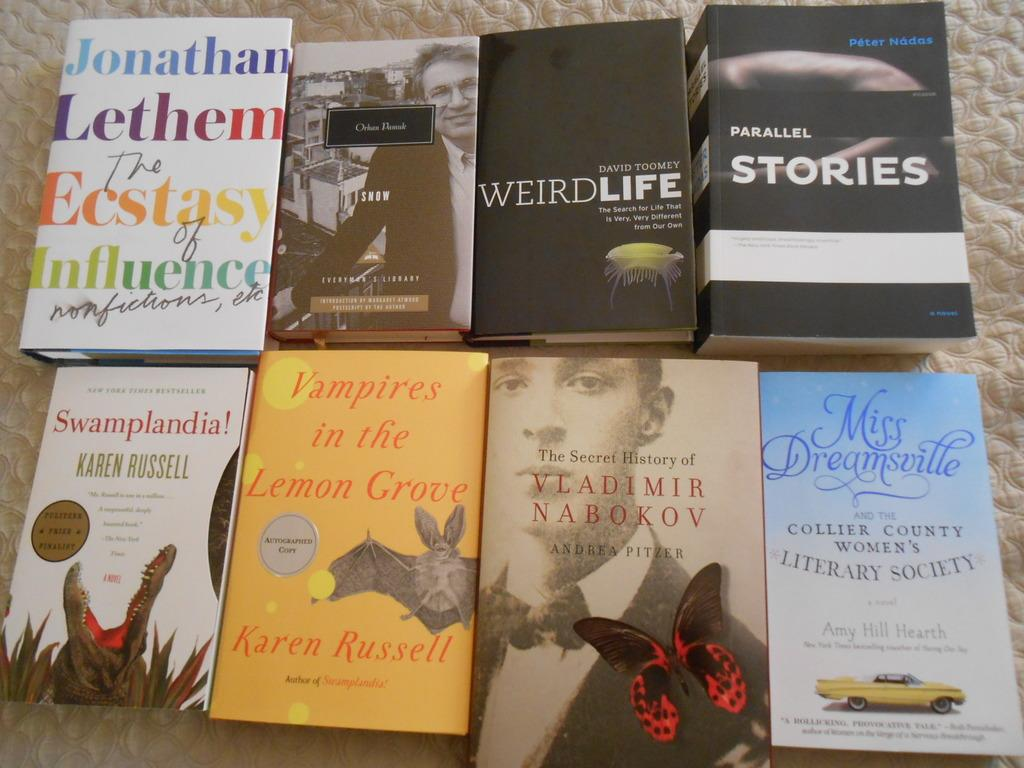book: (472, 354, 772, 768), (212, 351, 488, 739), (760, 368, 1024, 748), (18, 10, 310, 352), (680, 26, 982, 356), (0, 362, 253, 709), (464, 17, 706, 352), (266, 35, 472, 350)
